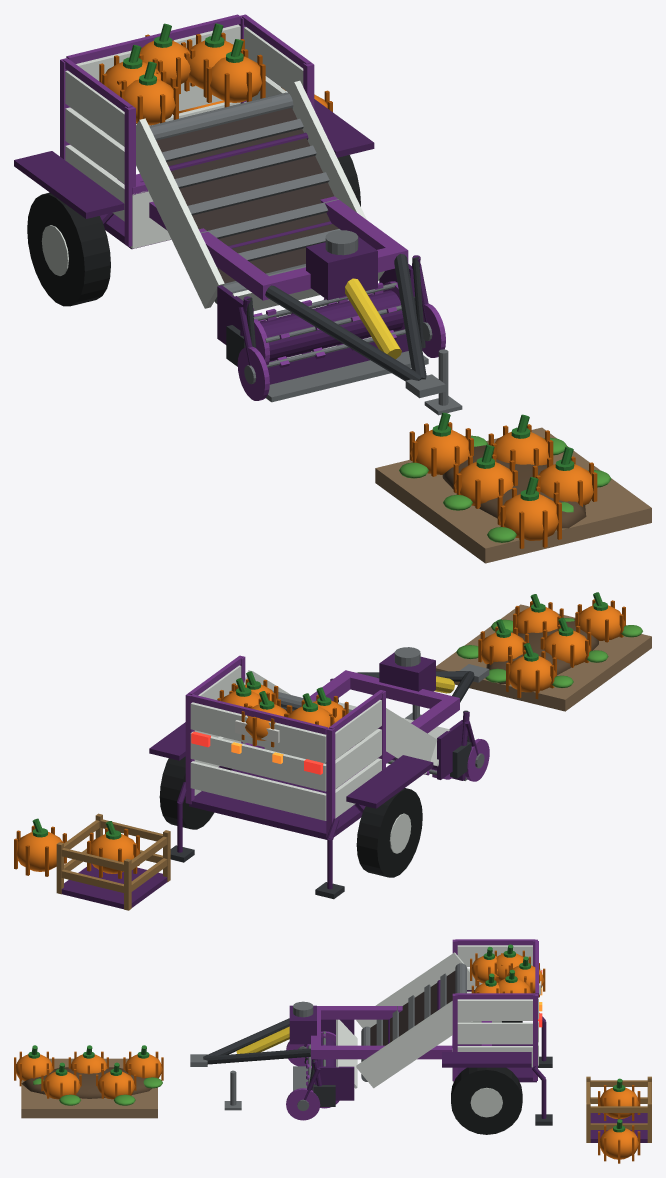
Rendered from pumpkin_harvester.glb.
The picture shows the model from 3 angles, top to bottom: view 1: azimuth 30°, elevation 25°; view 2: azimuth 150°, elevation 25°; view 3: azimuth 270°, elevation 25°; orthographic projection. The views are drawn at different scales.
Parts seen in each view (by area): view 1: PumpkinBody, PumpkinProps, PumpkinPickup; view 2: PumpkinBody, PumpkinProps; view 3: PumpkinBody, PumpkinProps, PumpkinPickup.
Part boxes in pixels (x1,y1,x2,y2): PumpkinBody: [14, 14, 462, 415]; PumpkinProps: [136, 87, 651, 563]; PumpkinPickup: [253, 281, 405, 367]; PumpkinBody: [149, 647, 489, 899]; PumpkinProps: [14, 592, 651, 910]; PumpkinBody: [190, 939, 552, 1134]; PumpkinProps: [14, 1045, 651, 1163]; PumpkinPickup: [306, 1031, 339, 1108].
Bounding box in the file's own units: 3.24 × 1.77 × 7.47.
